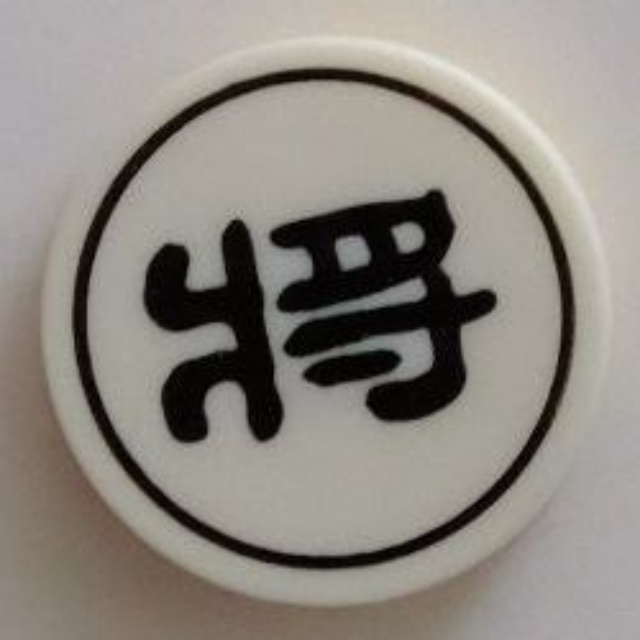black_tuong: (37, 36, 620, 613)
